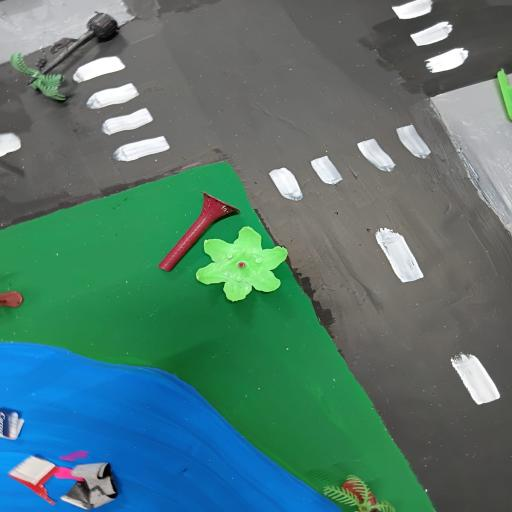encroachment: (1, 393, 137, 511)
fallen trees: (151, 186, 295, 304), (8, 7, 141, 101)
